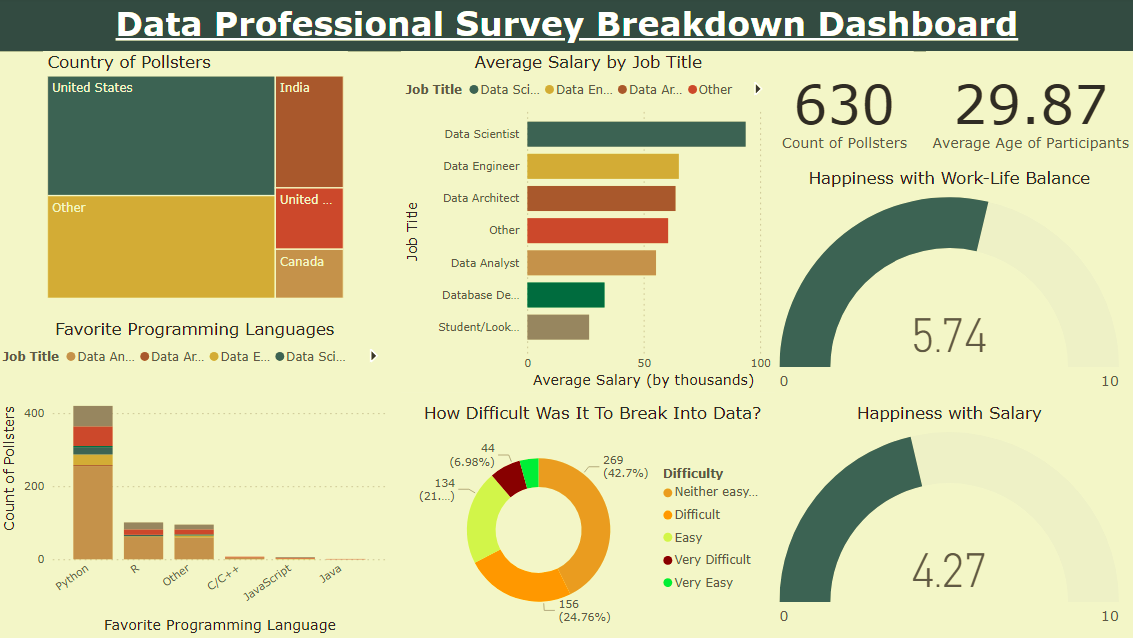

The dashboard page shown, as its layout file describes it:
{"tool":"powerbi","page":{"name":"Page 1","canvas":[1280,720],"ordinal":0},"visuals":[{"type":"textbox","box":[0,0,1280,59.7],"z":0},{"type":"card","fields":{"Values":["CountNonNull(Data Professional Survey.Unique ID)"]},"box":[874.3,59.7,156.2,130.1],"z":1000},{"type":"card","fields":{"Values":["Avg(Data Professional Survey.Q10 - Current Age)"]},"box":[1044.2,59.7,235.8,130.1],"z":2000},{"type":"barChart","title":"Average Salary by Job Title","fields":{"Category":["Data Professional Survey.Q1 - Which Title Best Fits your Current Role?.1"],"Y":["Avg(Data Professional Survey.Average Salary.1)"],"Series":["Data Professional Survey.Q1 - Which Title Best Fits your Current Role?.1"]},"box":[453.2,59.7,421.1,384.3],"z":3000},{"type":"columnChart","title":"Favorite Programming Languages","fields":{"Category":["Data Professional Survey.Q5 - Favorite Programming Language.1"],"Y":["CountNonNull(Data Professional Survey.Unique ID)"],"Series":["Data Professional Survey.Q1 - Which Title Best Fits your Current Role?.1"]},"box":[0,359.8,442.5,359.8],"z":3001},{"type":"treemap","title":"Country of Pollsters","fields":{"Group":["Data Professional Survey.Q11 - Which Country do you live in?.1"],"Values":["CountNonNull(Data Professional Survey.Q11 - Which Country do you live in?.1)"]},"box":[50.5,59.7,343,283.3],"z":3002},{"type":"gauge","title":"Happiness with Work-Life Balance","fields":{"Y":["Avg(Data Professional Survey.Q6 - How Happy are you in your Current Position with the following? (Work/Life Balance))"],"MinValue":["Min(Data Professional Survey.Q6 - How Happy are you in your Current Position with the following? (Work/Life Balance))"],"MaxValue":["Max(Data Professional Survey.Q6 - How Happy are you in your Current Position with the following? (Work/Life Balance))"]},"box":[874.3,189.9,392,264.9],"z":3003},{"type":"gauge","title":"Happiness with Salary","fields":{"Y":["Avg(Data Professional Survey.Q6 - How Happy are you in your Current Position with the following? (Salary))"],"MinValue":["Min(Data Professional Survey.Q6 - How Happy are you in your Current Position with the following? (Salary))"],"MaxValue":["Max(Data Professional Survey.Q6 - How Happy are you in your Current Position with the following? (Salary))"]},"box":[874.3,454.7,392,264.9],"z":3004},{"type":"donutChart","title":"How Difficult Was It To Break Into Data?","fields":{"Category":["Data Professional Survey.Q7 - How difficult was it for you to break into Data?"],"Y":["CountNonNull(Data Professional Survey.Q7 - How difficult was it for you to break into Data?)"]},"box":[463.9,454.7,410.3,264.9],"z":3005}]}

Visuals, with their boxes in screenshot pixels (x1, y1, x2, y2), scaled from the page's 1280x720 canvas onto the 1133x638 screenshot:
textbox: x1=0 y1=0 x2=1132 y2=53
card - CountNonNull(Data Professional Survey.Unique ID): x1=774 y1=53 x2=912 y2=168
card - Avg(Data Professional Survey.Q10 - Current Age): x1=924 y1=53 x2=1132 y2=168
"Average Salary by Job Title" barChart: x1=401 y1=53 x2=774 y2=393
"Favorite Programming Languages" columnChart: x1=0 y1=319 x2=392 y2=637
"Country of Pollsters" treemap: x1=45 y1=53 x2=348 y2=304
"Happiness with Work-Life Balance" gauge: x1=774 y1=168 x2=1121 y2=403
"Happiness with Salary" gauge: x1=774 y1=403 x2=1121 y2=637
"How Difficult Was It To Break Into Data?" donutChart: x1=411 y1=403 x2=774 y2=637
